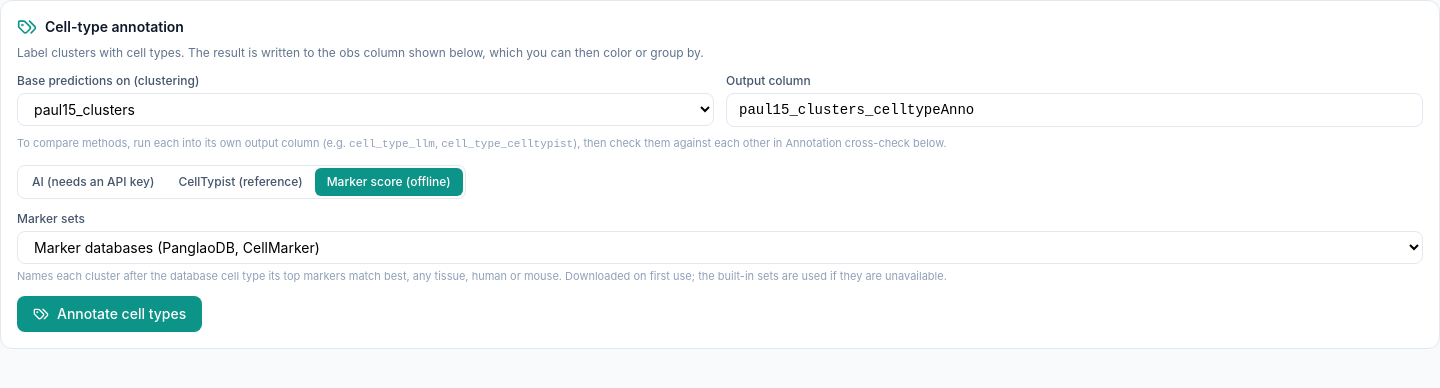
AnnotationControl (CellTypist) › starts on marker scores without an API key and says what the AI tab would do
The width and height of the screenshot is (1440, 388).
Expected: the button "AI (needs an API key)" is shown, [20,168,166,196]
Expected: the dropdown labelled "Marker sets" is shown, [17,230,1423,264]
Step 1. Click the button "Annotate cell types" → [110, 314], box [17,296,202,332]
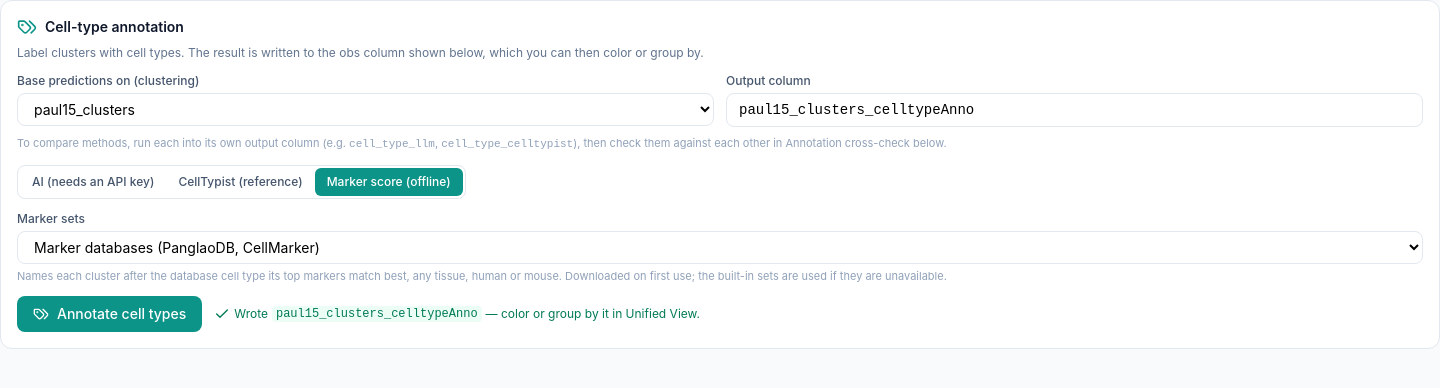
Step 2. Click the button "AI (needs an API key)" → [93, 182], box [20,168,166,196]
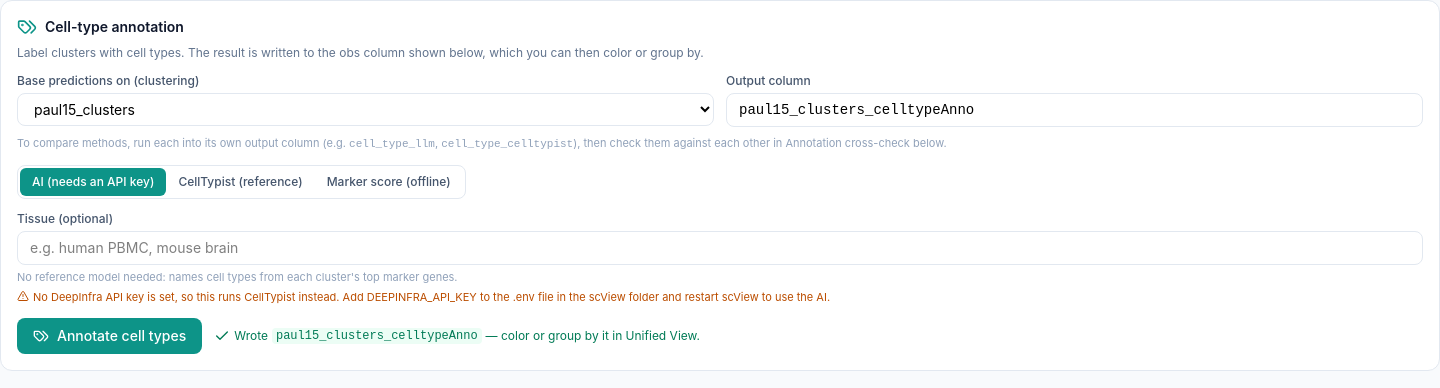
Expected: the text "runs CellTypist instead" is shown, [33,290,830,304]
